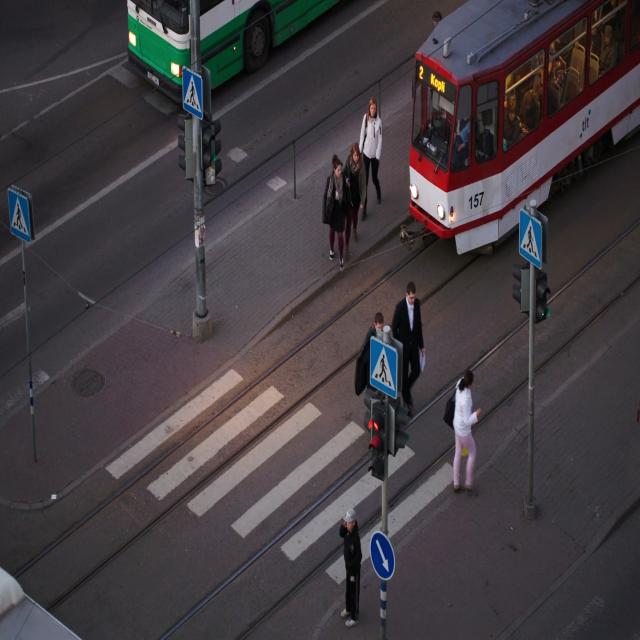pedestrian: (323, 97, 381, 268), (445, 370, 480, 492), (392, 281, 425, 408)
